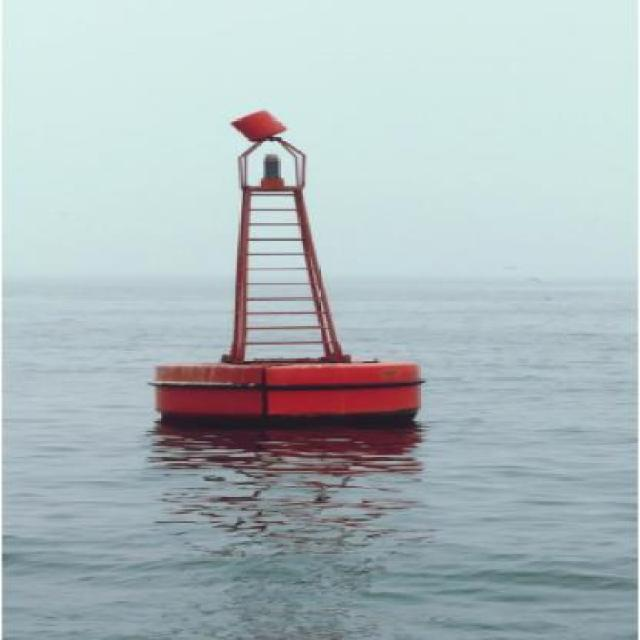buoy: (139, 104, 442, 433)
